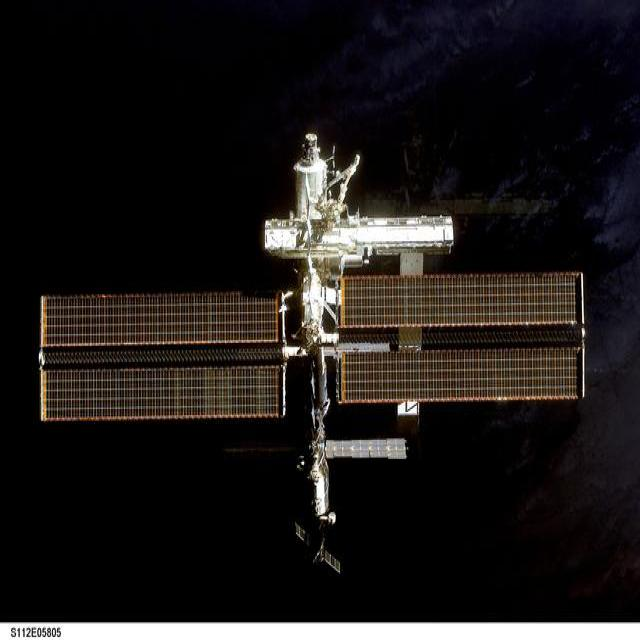medium_debris: (39, 134, 585, 571)
